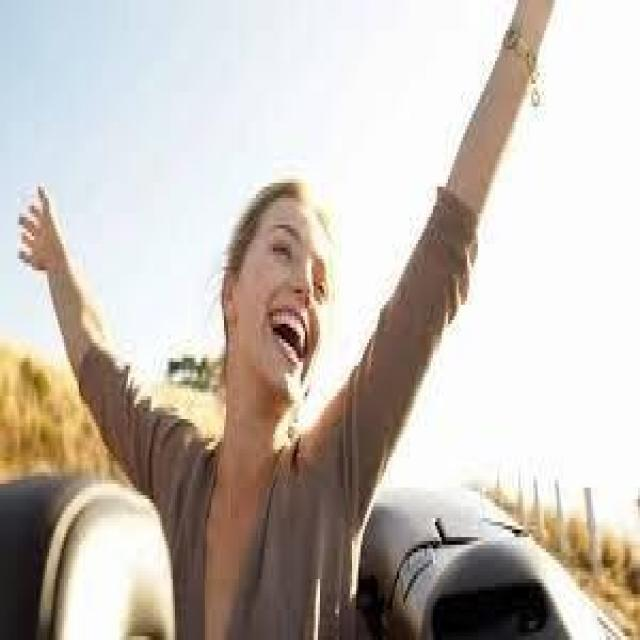person: (6, 4, 598, 636)
